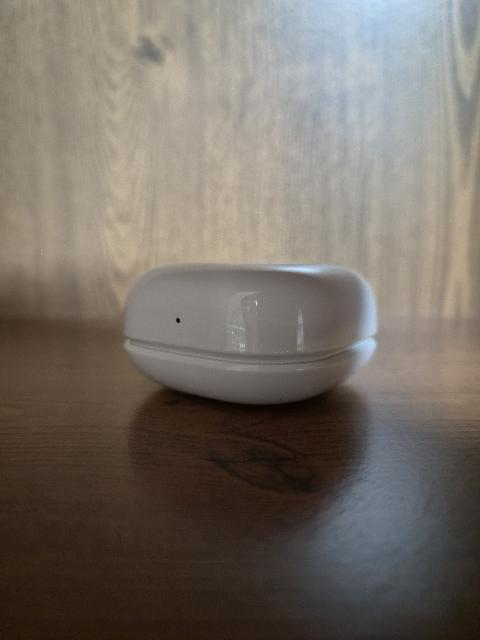earphone_case: (123, 263, 377, 405)
